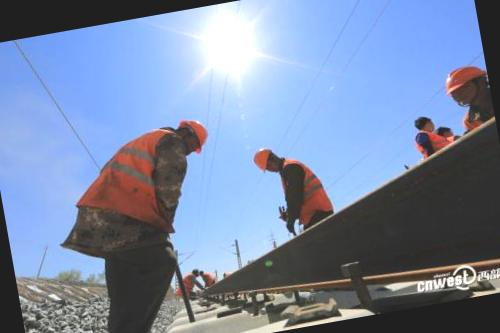no_helmet: (409, 108, 436, 138), (436, 120, 458, 143)
